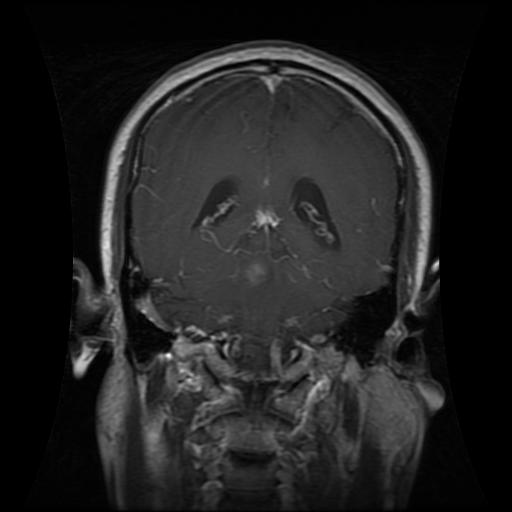Gliomia_tumour: (230, 242, 277, 287)
